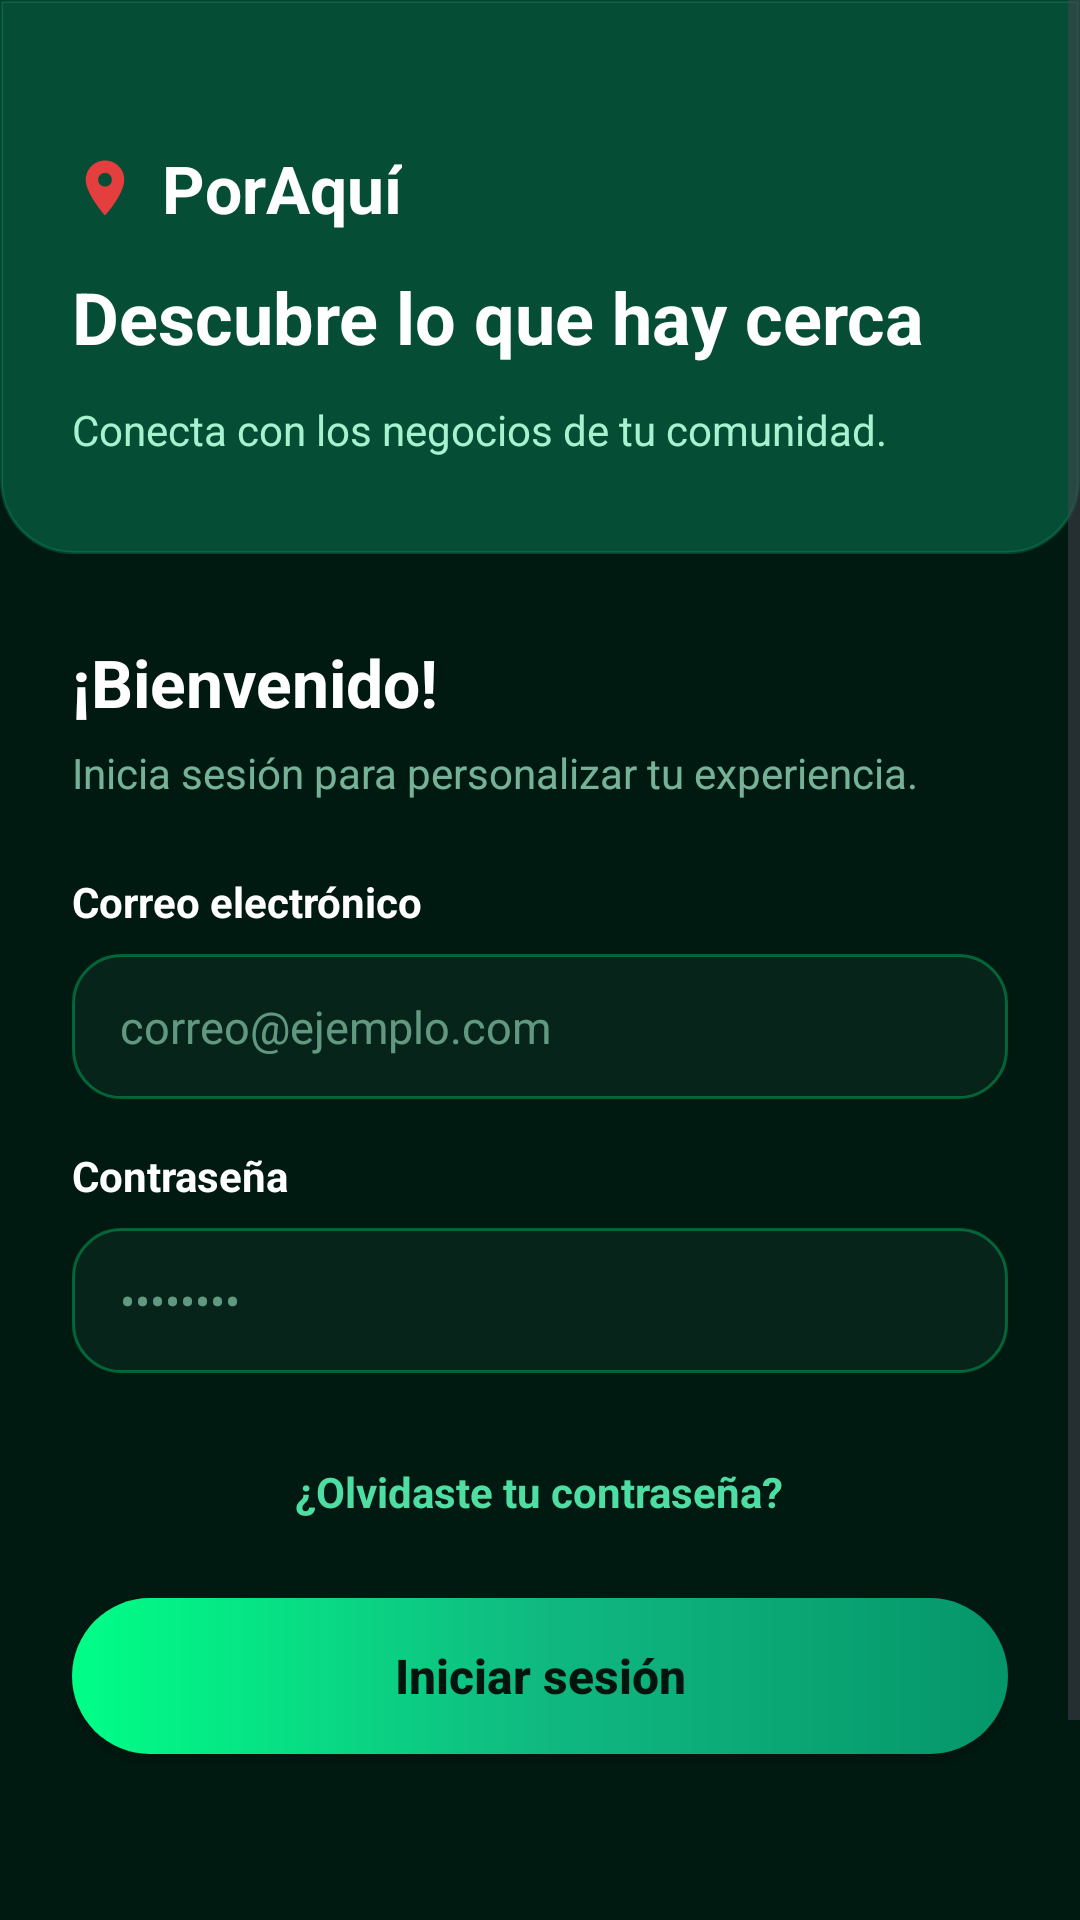

Named icons in this screenshot (1080×1920) and their centers, [x,y]:
pin: [105,187]
